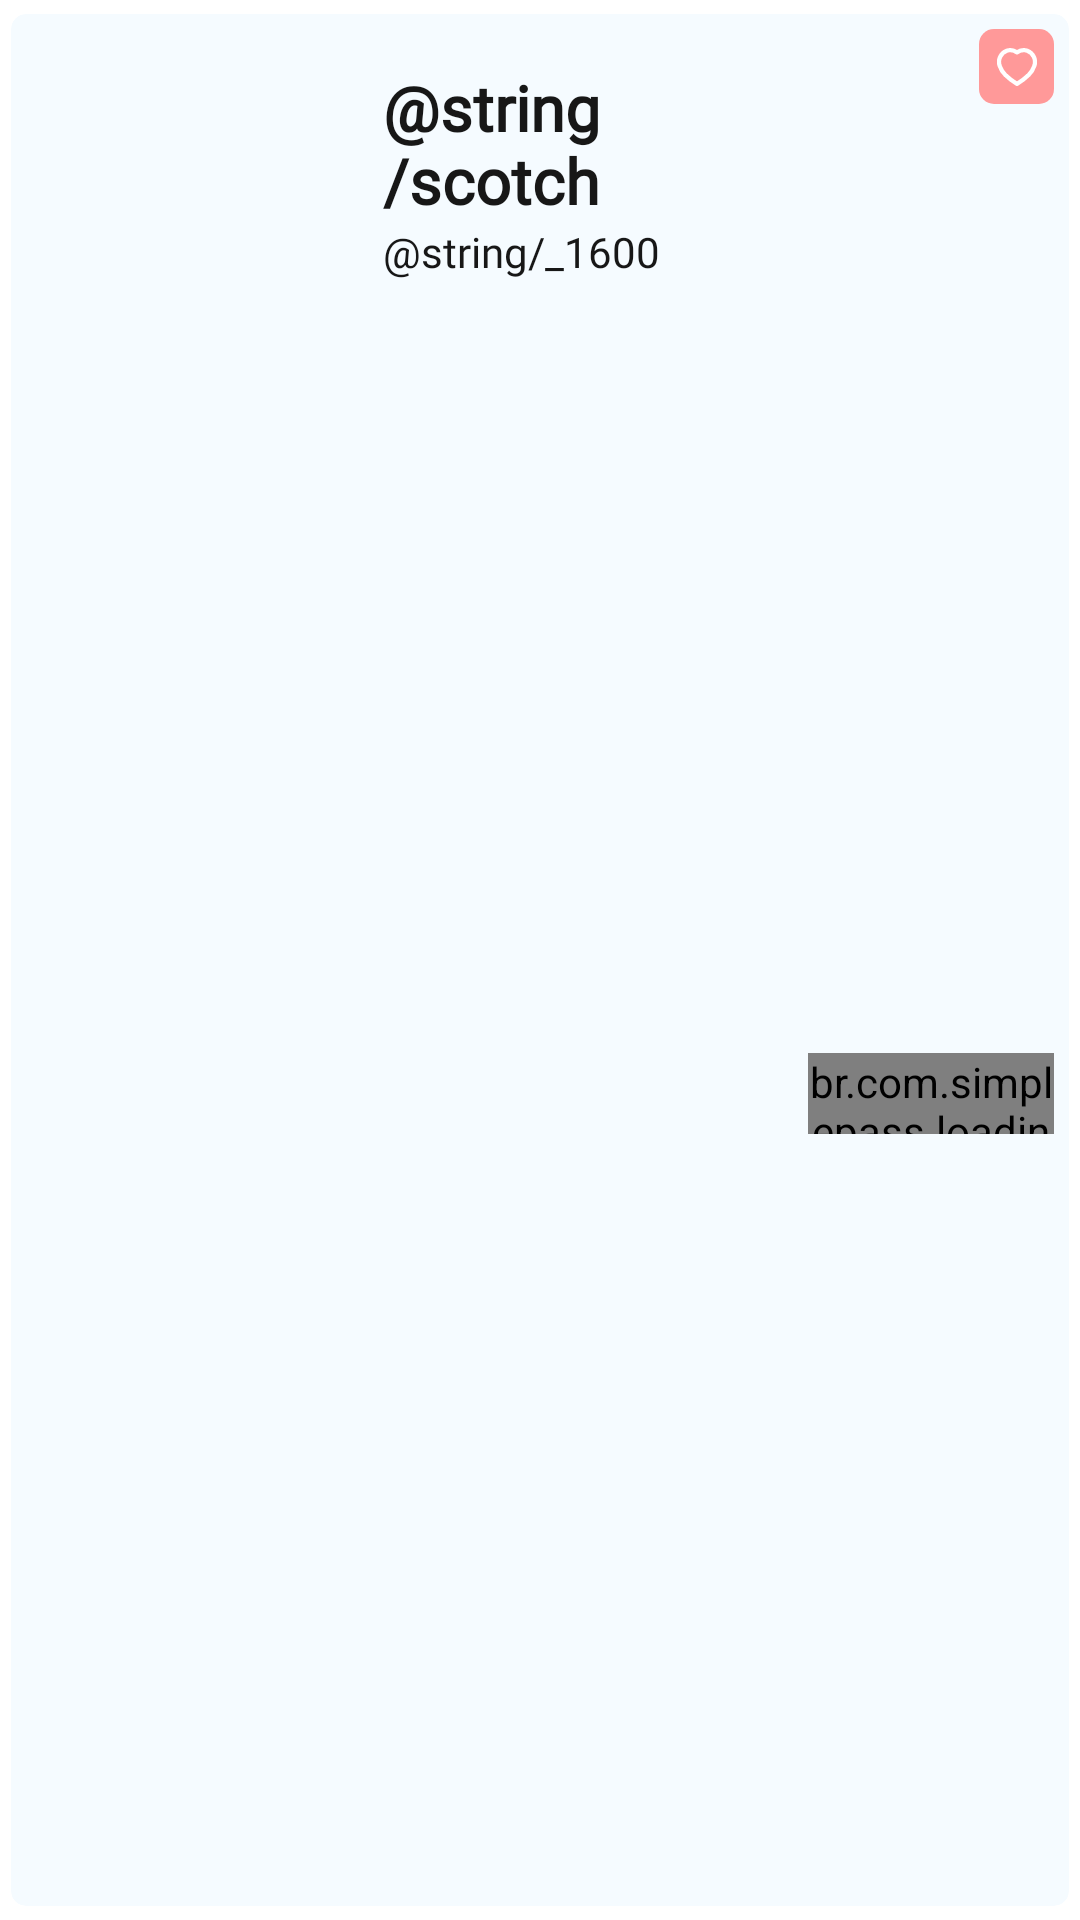

Screen size 1080px x 1920px. Icon name, then its box in pixels as BBox(x1, y1, x2, y2):
favorite: BBox(979, 29, 1054, 104)
